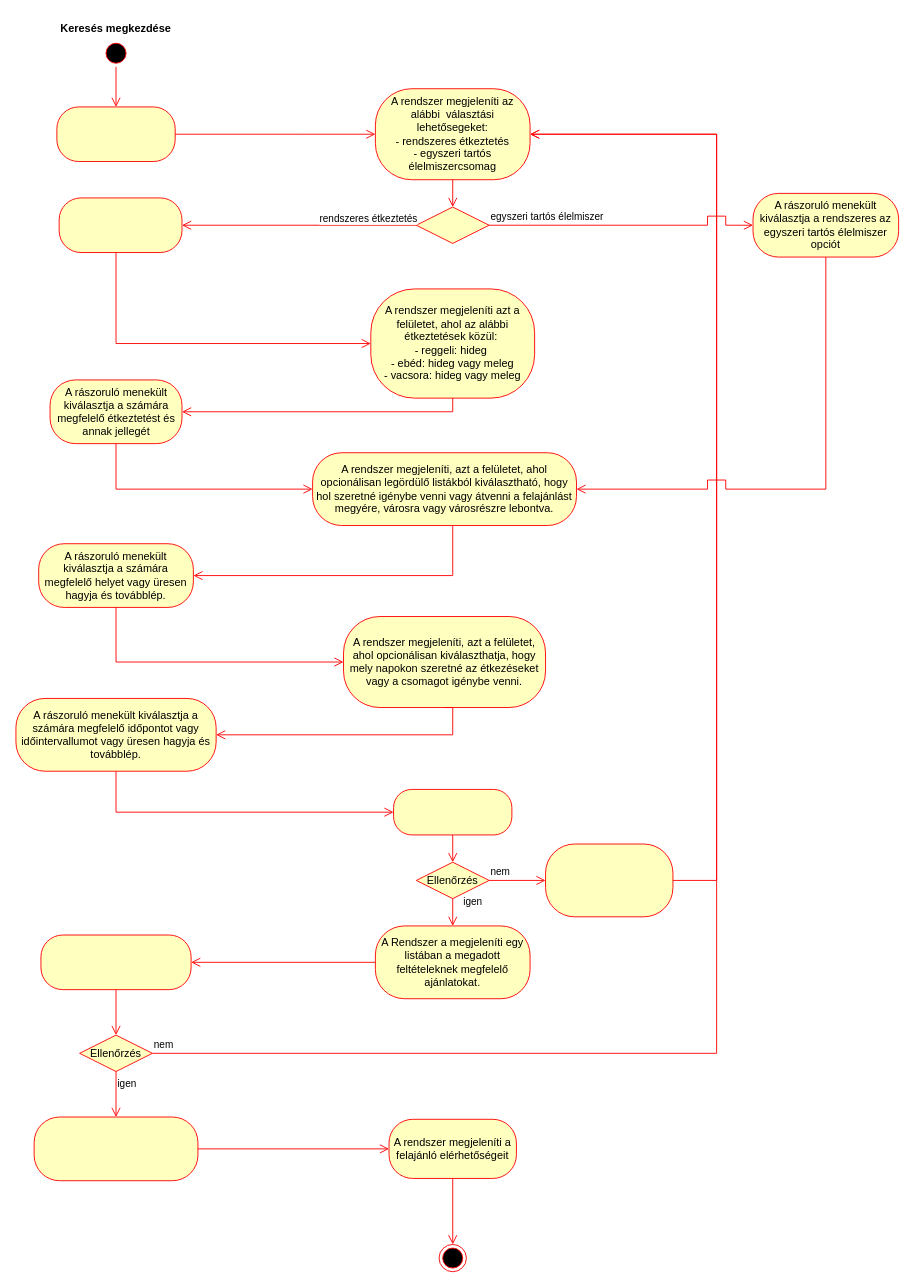
The diagram is 915 pixels wide and 1288 high, and some of its shapes have lost their labels. Here are the shapes that lost their labels. From the top down, the centre of each, then its label:
point (115, 134): A rászoruló menekült elindítja a keresés funkciót
point (120, 225): A rászoruló menekült kiválasztja a rendszeres étkeztetés opciót
point (452, 812): A rendszer ellenőrzi, hogy van-e találat
point (609, 880): A rendszer jelzi, hogy a megadott feltételekkel mellett nincs találat
point (115, 962): A rászoruló menekült ellenőrzi, hogy van-e számára megfelelő ajánlat
point (115, 1148): A rászoruló menekült a listából kiválasztja a számára legmegfelelőbb ajánlatot.
